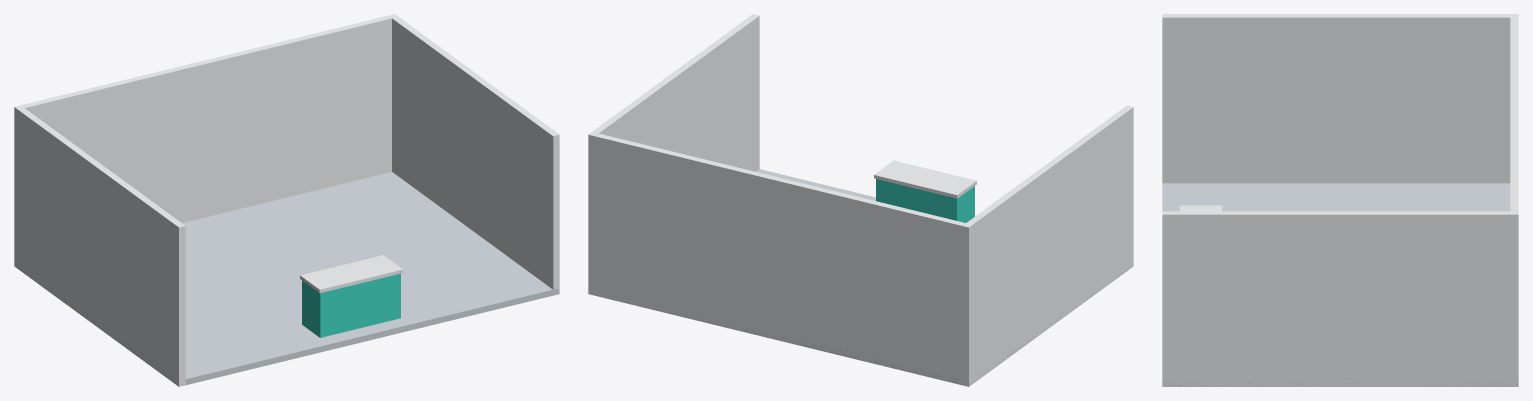
3 renders of one model, left to right at view 1: azimuth 30°, elevation 25°; view 2: azimuth 150°, elevation 25°; view 3: azimuth 270°, elevation 25°, orthographic. The views are drawn at different scales.
Visible parts, largest first — view 1: Exhibition Booth Concept; view 2: Exhibition Booth Concept; view 3: Exhibition Booth Concept.
Part boxes in pixels (x1,y1,x2,y2): Exhibition Booth Concept: [14, 14, 559, 386]; Exhibition Booth Concept: [588, 14, 1133, 386]; Exhibition Booth Concept: [1162, 14, 1518, 386].
Bounding box in the file's own units: 8 × 3.2 × 6.
